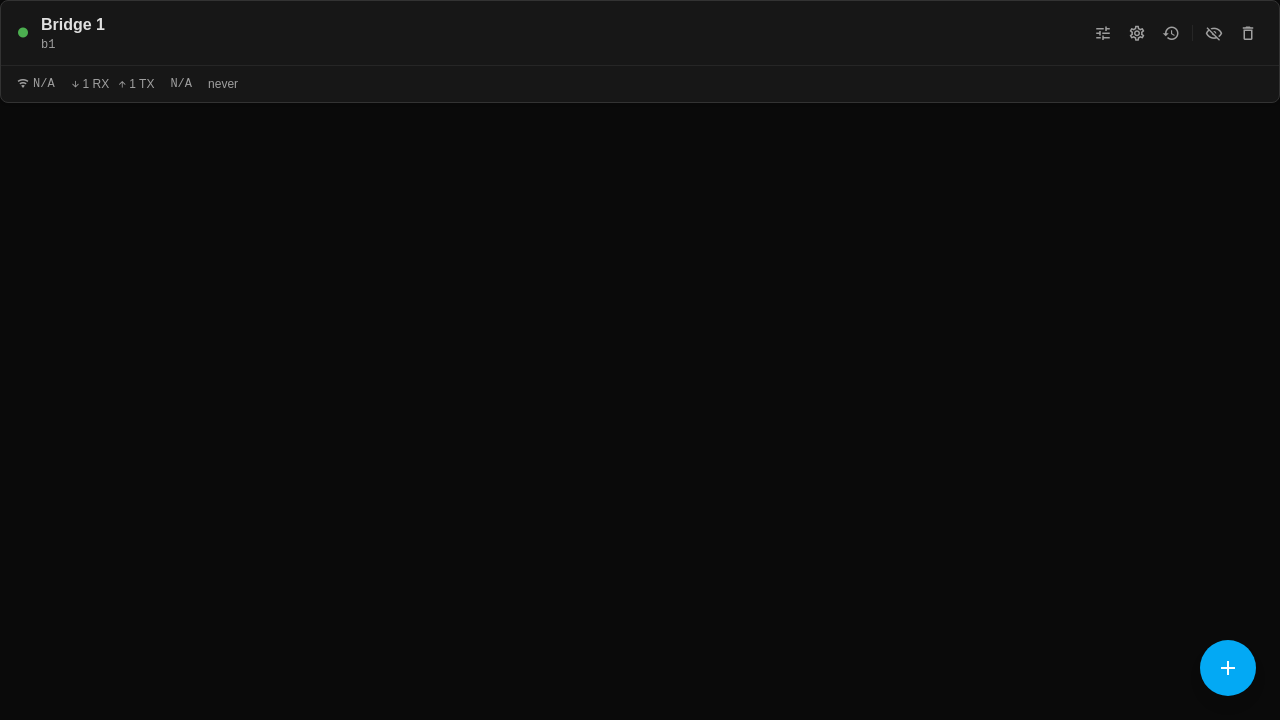
it: Bridges View › opens settings modal on edit click
The image size is (1280, 720).
Click the button titled "Echo Suppression Settings" at [1137, 33], box left=1122, top=13, right=1152, bottom=53
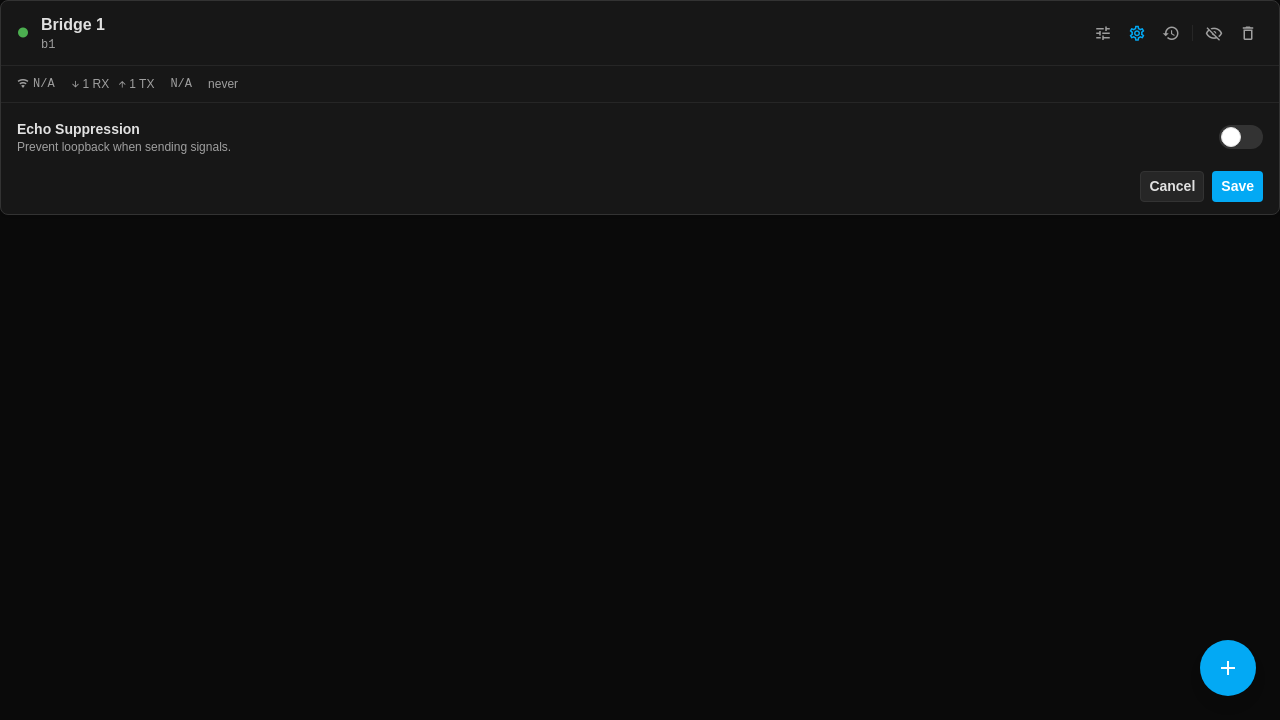
Check: the text "Echo Suppression" is shown, box left=17, top=121, right=140, bottom=137
Check: the button "Save" is shown, box left=1212, top=171, right=1263, bottom=202
